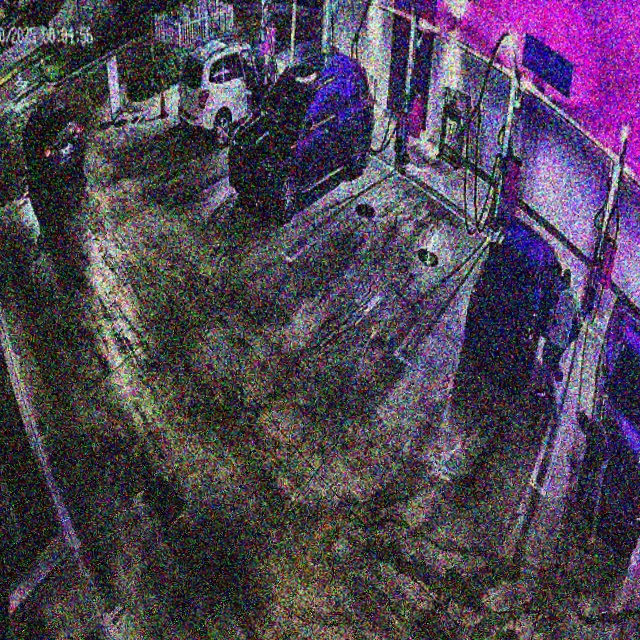Car: (229, 52, 374, 218), (461, 218, 585, 392)
